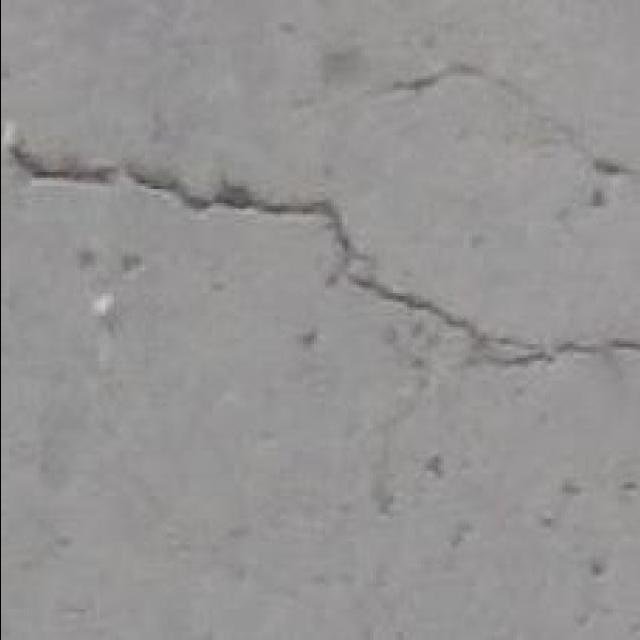crack: (8, 190, 421, 615), (7, 121, 637, 373), (353, 341, 640, 631), (370, 64, 640, 201), (10, 126, 346, 226), (7, 131, 142, 192), (385, 63, 515, 102)
